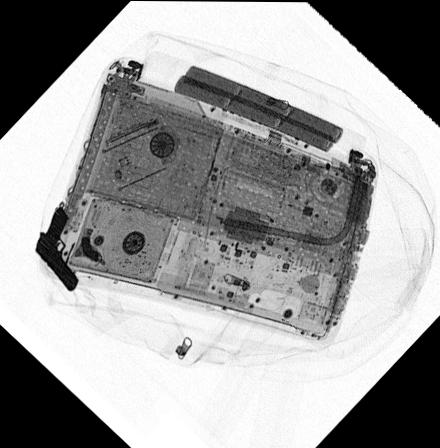Gun: (32, 202, 78, 290)
